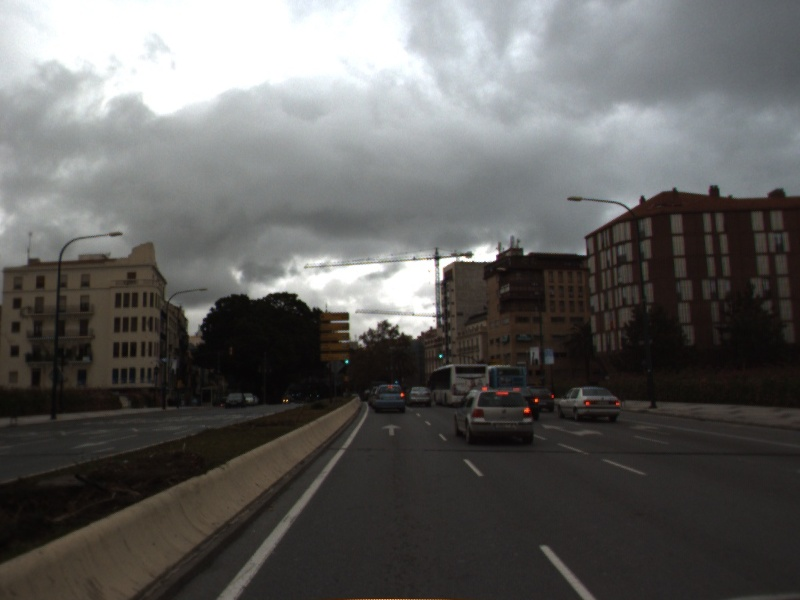RIGHT: (626, 422, 673, 437)
STRAIGHT: (379, 422, 404, 438)
STRAIGHT_RIGHT: (538, 421, 606, 439)
